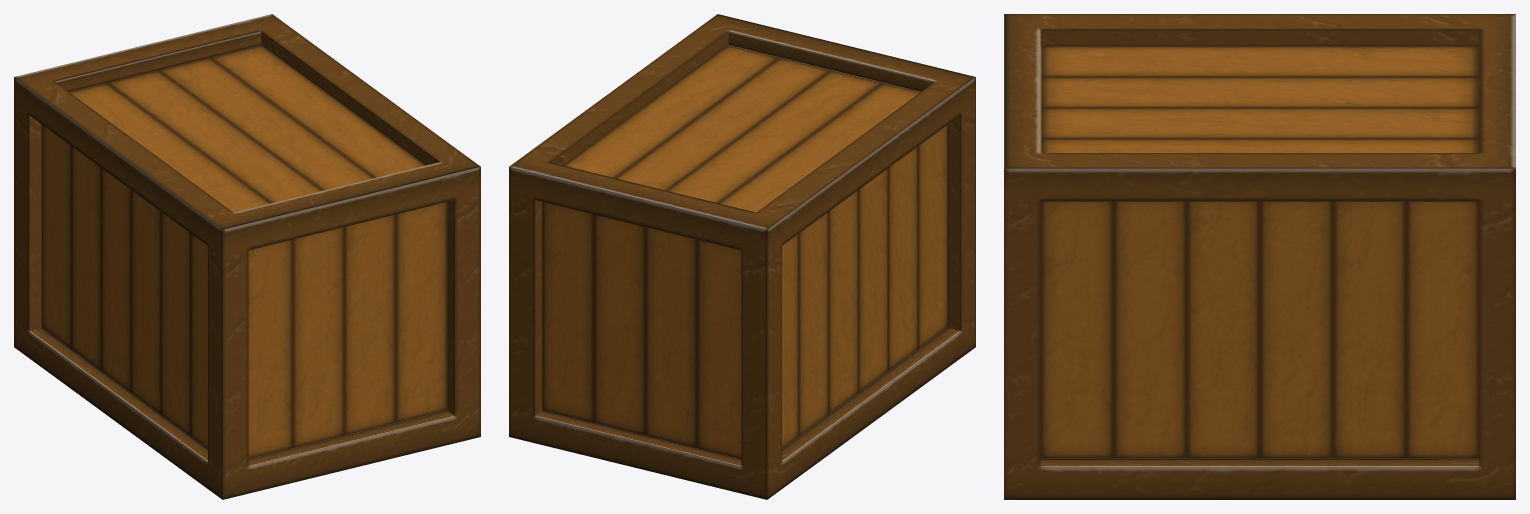
File: Box_Crate_1-2.fbx
The picture shows the model from 3 angles, left to right: view 1: azimuth 30°, elevation 25°; view 2: azimuth 150°, elevation 25°; view 3: azimuth 270°, elevation 25°; orthographic projection. The views are drawn at different scales.
Visible parts, largest first — view 1: Box_Crate_1-2; view 2: Box_Crate_1-2; view 3: Box_Crate_1-2.
Boxes of the visible parts, left/top/right/bottom form: Box_Crate_1-2: left=14, top=14, right=480, bottom=499; Box_Crate_1-2: left=509, top=14, right=975, bottom=499; Box_Crate_1-2: left=1004, top=14, right=1515, bottom=499.
Size of the model in its own units: 100 by 100 by 140.
Materials: 1 (1 with a texture image).
